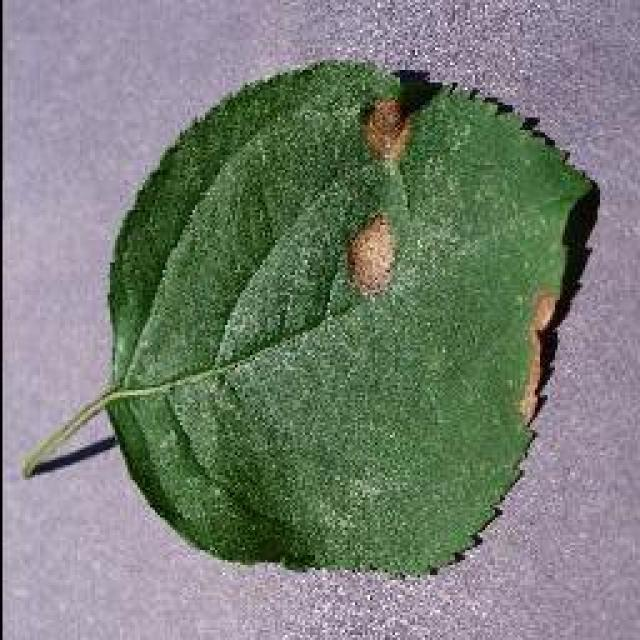Black_rot: (20, 55, 600, 580)
